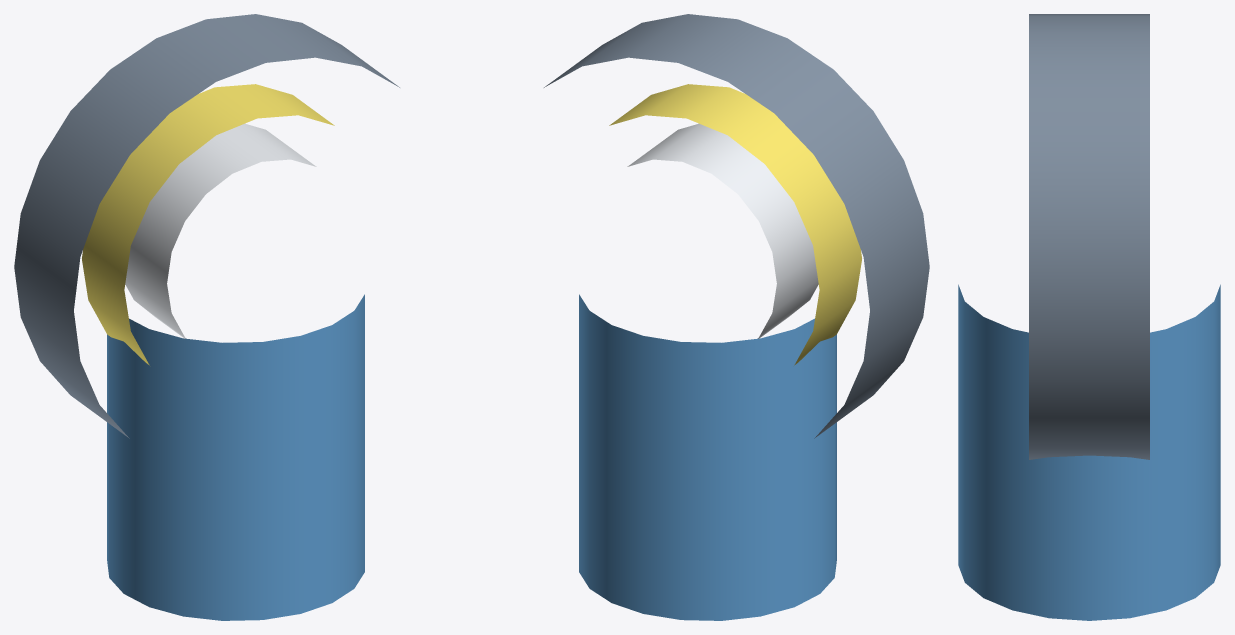
Rendered from hydraulic_reaction_turbines.glb.
3 views of the same model, side by side, from view 1: azimuth 30°, elevation 25°; view 2: azimuth 150°, elevation 25°; view 3: azimuth 270°, elevation 25° (orthographic).
Visible parts, largest first — view 1: ElbowDraftTubeRecovery, FrancisSpiralScrollCasing, RadialGuideVaneRing, FrancisMixedFlowRunner; view 2: ElbowDraftTubeRecovery, FrancisSpiralScrollCasing, RadialGuideVaneRing, FrancisMixedFlowRunner; view 3: ElbowDraftTubeRecovery, FrancisSpiralScrollCasing.
Part boxes in pixels (bbox=[...]): ElbowDraftTubeRecovery: bbox=[107, 294, 364, 620]; FrancisSpiralScrollCasing: bbox=[14, 14, 399, 438]; RadialGuideVaneRing: bbox=[82, 84, 334, 365]; FrancisMixedFlowRunner: bbox=[125, 123, 316, 338]; ElbowDraftTubeRecovery: bbox=[579, 294, 836, 620]; FrancisSpiralScrollCasing: bbox=[544, 14, 929, 438]; RadialGuideVaneRing: bbox=[609, 84, 861, 365]; FrancisMixedFlowRunner: bbox=[627, 123, 818, 338]; ElbowDraftTubeRecovery: bbox=[958, 284, 1220, 620]; FrancisSpiralScrollCasing: bbox=[1029, 14, 1149, 459].
Size of the model in its own units: 1.3 by 1.7 by 0.76.
